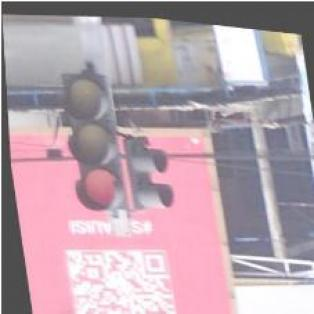Semaforo Rojo: (57, 68, 127, 213)
